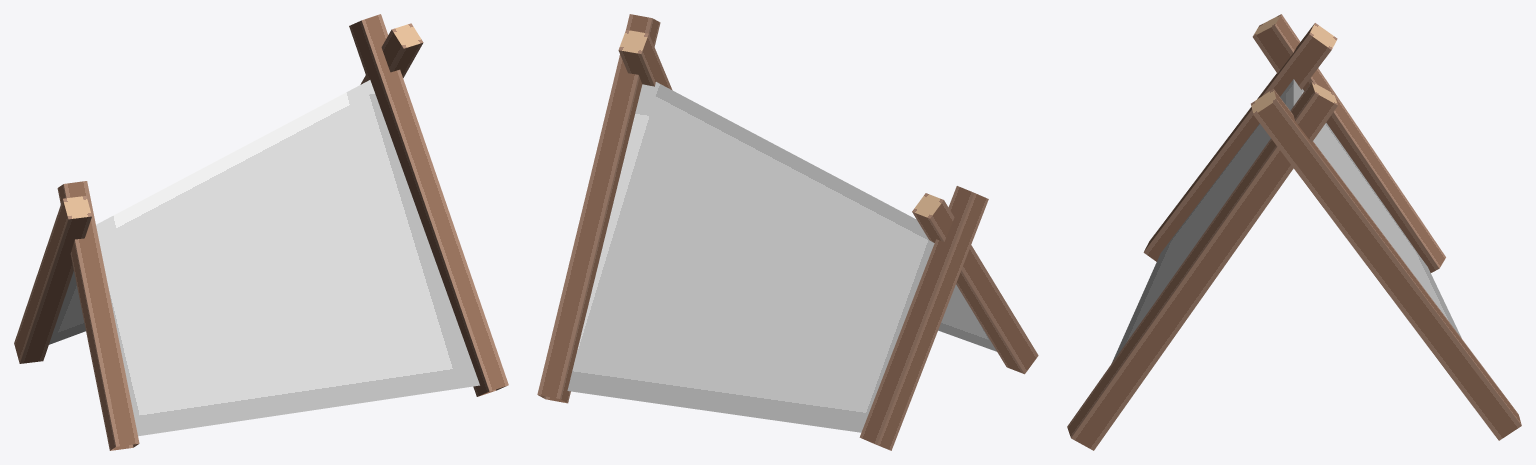
The model's file is Tent.fbx.
3 renders of one model, left to right at view 1: azimuth 30°, elevation 25°; view 2: azimuth 150°, elevation 25°; view 3: azimuth 270°, elevation 25°, orthographic. The views are drawn at different scales.
Parts seen in each view (by area): view 1: Tent; view 2: Tent; view 3: Tent.
Part boxes in pixels (bbox=[...]): Tent: bbox=[14, 14, 508, 450]; Tent: bbox=[537, 14, 1038, 450]; Tent: bbox=[1067, 14, 1521, 450].
Bounding box in the file's own units: 44.64 × 36.82 × 43.55.
